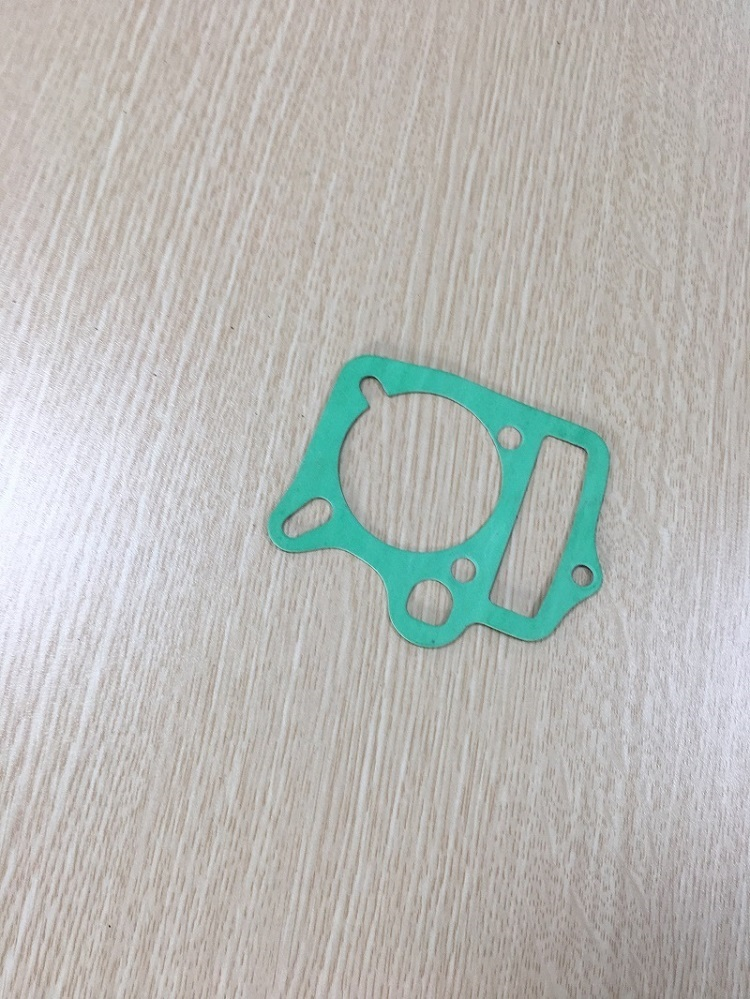circle 1: (330, 355, 509, 559)
circle 2: (392, 574, 468, 636)
circle 3: (270, 495, 345, 542)
circle 4: (483, 412, 532, 468)
circle 5: (554, 552, 612, 605)
circle 6: (476, 430, 598, 652)
object: (241, 329, 644, 667)
